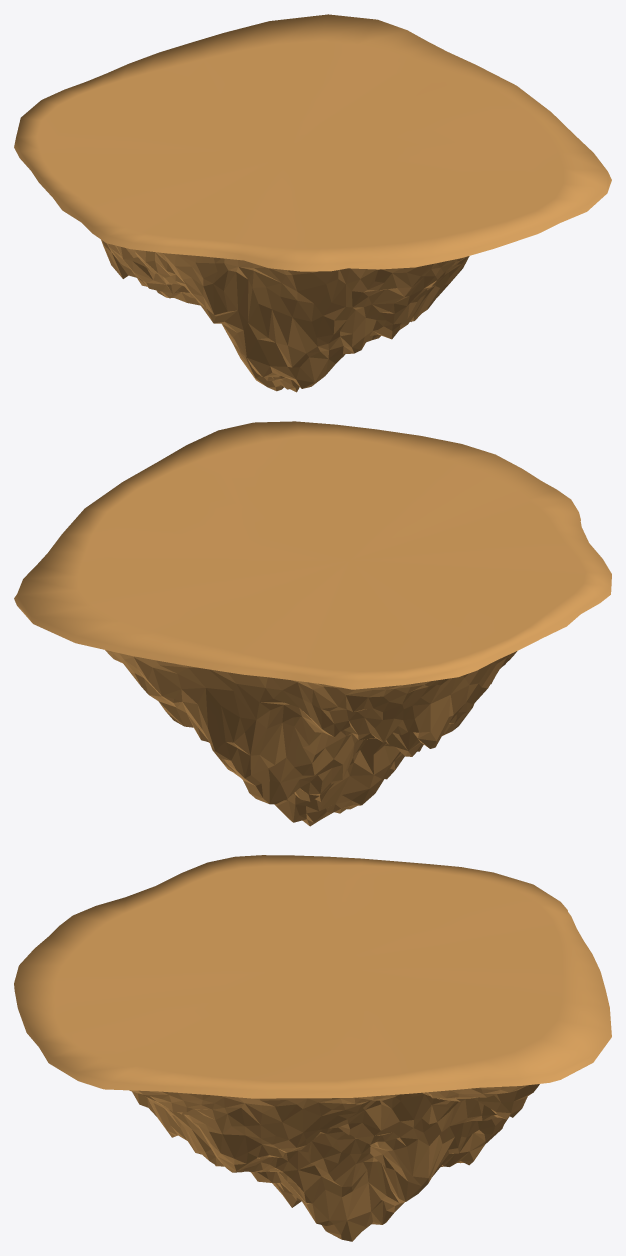
File: Island.fbx
The picture shows the model from 3 angles, top to bottom: view 1: azimuth 30°, elevation 25°; view 2: azimuth 150°, elevation 25°; view 3: azimuth 270°, elevation 25°; orthographic projection. The views are drawn at different scales.
Visible parts, largest first — view 1: Mounting_1; view 2: Mounting_1; view 3: Mounting_1.
Boxes of the visible parts, box(x1,y1,x2,y2) form: Mounting_1: box(14, 14, 611, 392); Mounting_1: box(14, 421, 611, 826); Mounting_1: box(14, 855, 611, 1241).
Bounding box in the file's own units: 1572 × 805 × 1677.
